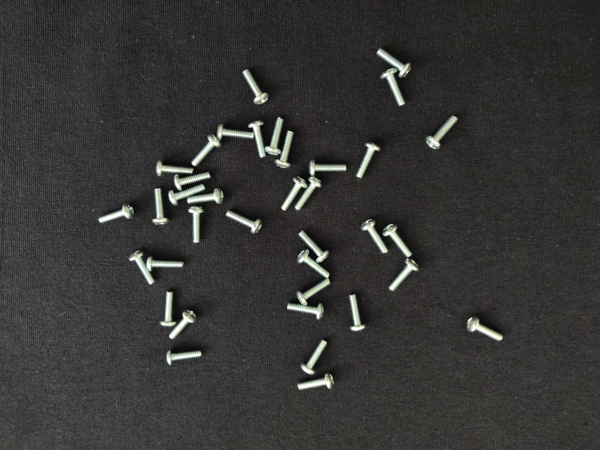shortscrew: (464, 313, 507, 347), (425, 114, 463, 152), (374, 44, 415, 79), (383, 223, 416, 264), (294, 276, 336, 308), (386, 257, 421, 294), (381, 67, 411, 110), (188, 134, 223, 170), (242, 66, 272, 108), (297, 228, 331, 265), (296, 249, 333, 282), (278, 174, 308, 214), (298, 339, 331, 375), (146, 188, 174, 229), (293, 175, 323, 213), (225, 210, 265, 238), (363, 218, 391, 258), (356, 140, 382, 182), (166, 309, 198, 341), (128, 251, 156, 287), (265, 116, 289, 158), (183, 207, 210, 244), (274, 130, 298, 171), (284, 300, 325, 324), (294, 372, 335, 396), (98, 202, 135, 228), (144, 251, 189, 272), (346, 293, 369, 334), (173, 169, 215, 191), (215, 123, 255, 145), (307, 157, 348, 178), (249, 118, 269, 161), (166, 348, 205, 370), (167, 185, 206, 207), (158, 288, 178, 330), (189, 187, 226, 208), (154, 159, 197, 177)
